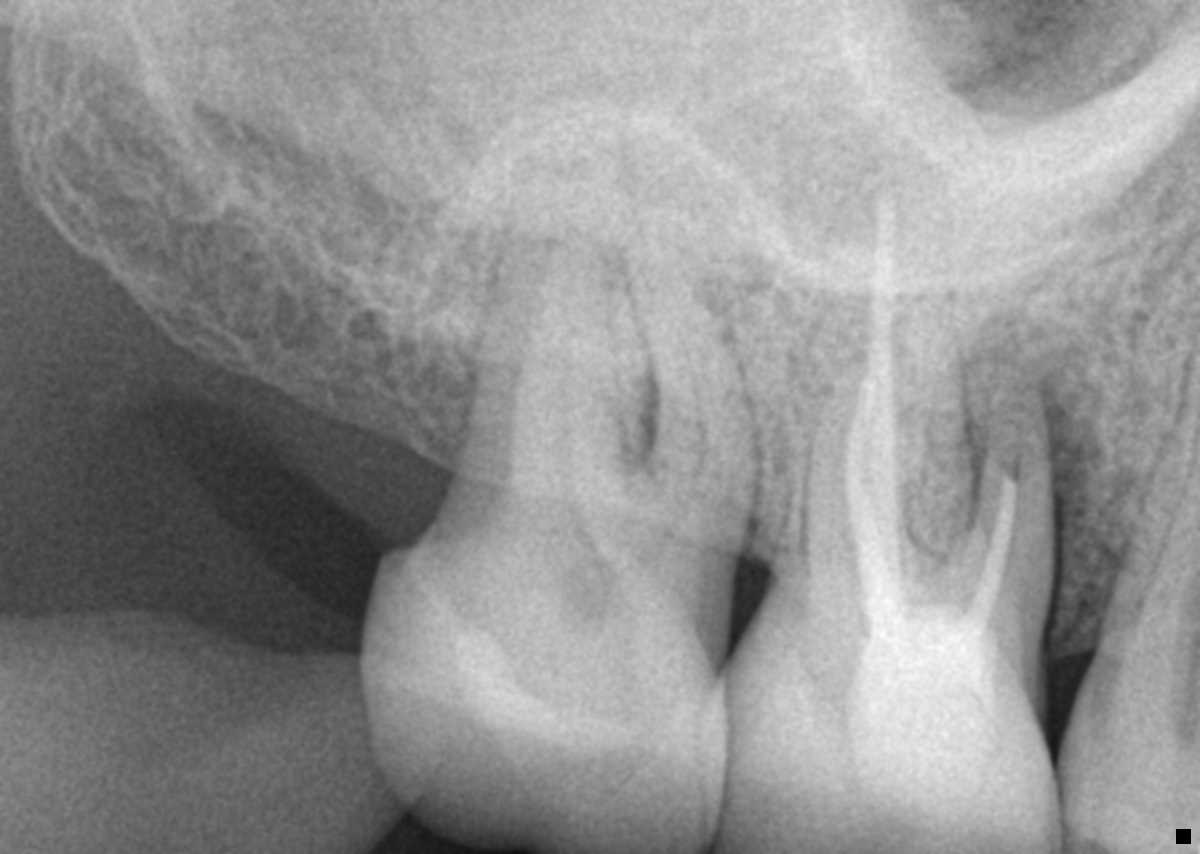Distal Canal: (556, 306, 601, 565)
Distal Root: (484, 231, 629, 520), (803, 322, 943, 617)
Main Root: (1098, 348, 1200, 660)
Mesial Canal: (624, 353, 705, 589)
Mesial Root: (621, 236, 758, 545), (954, 358, 1056, 617)
Palatal Root: (444, 85, 711, 560), (762, 131, 972, 627)
Root Canal Filling: (842, 379, 905, 632), (868, 181, 903, 617), (976, 472, 1017, 590)
